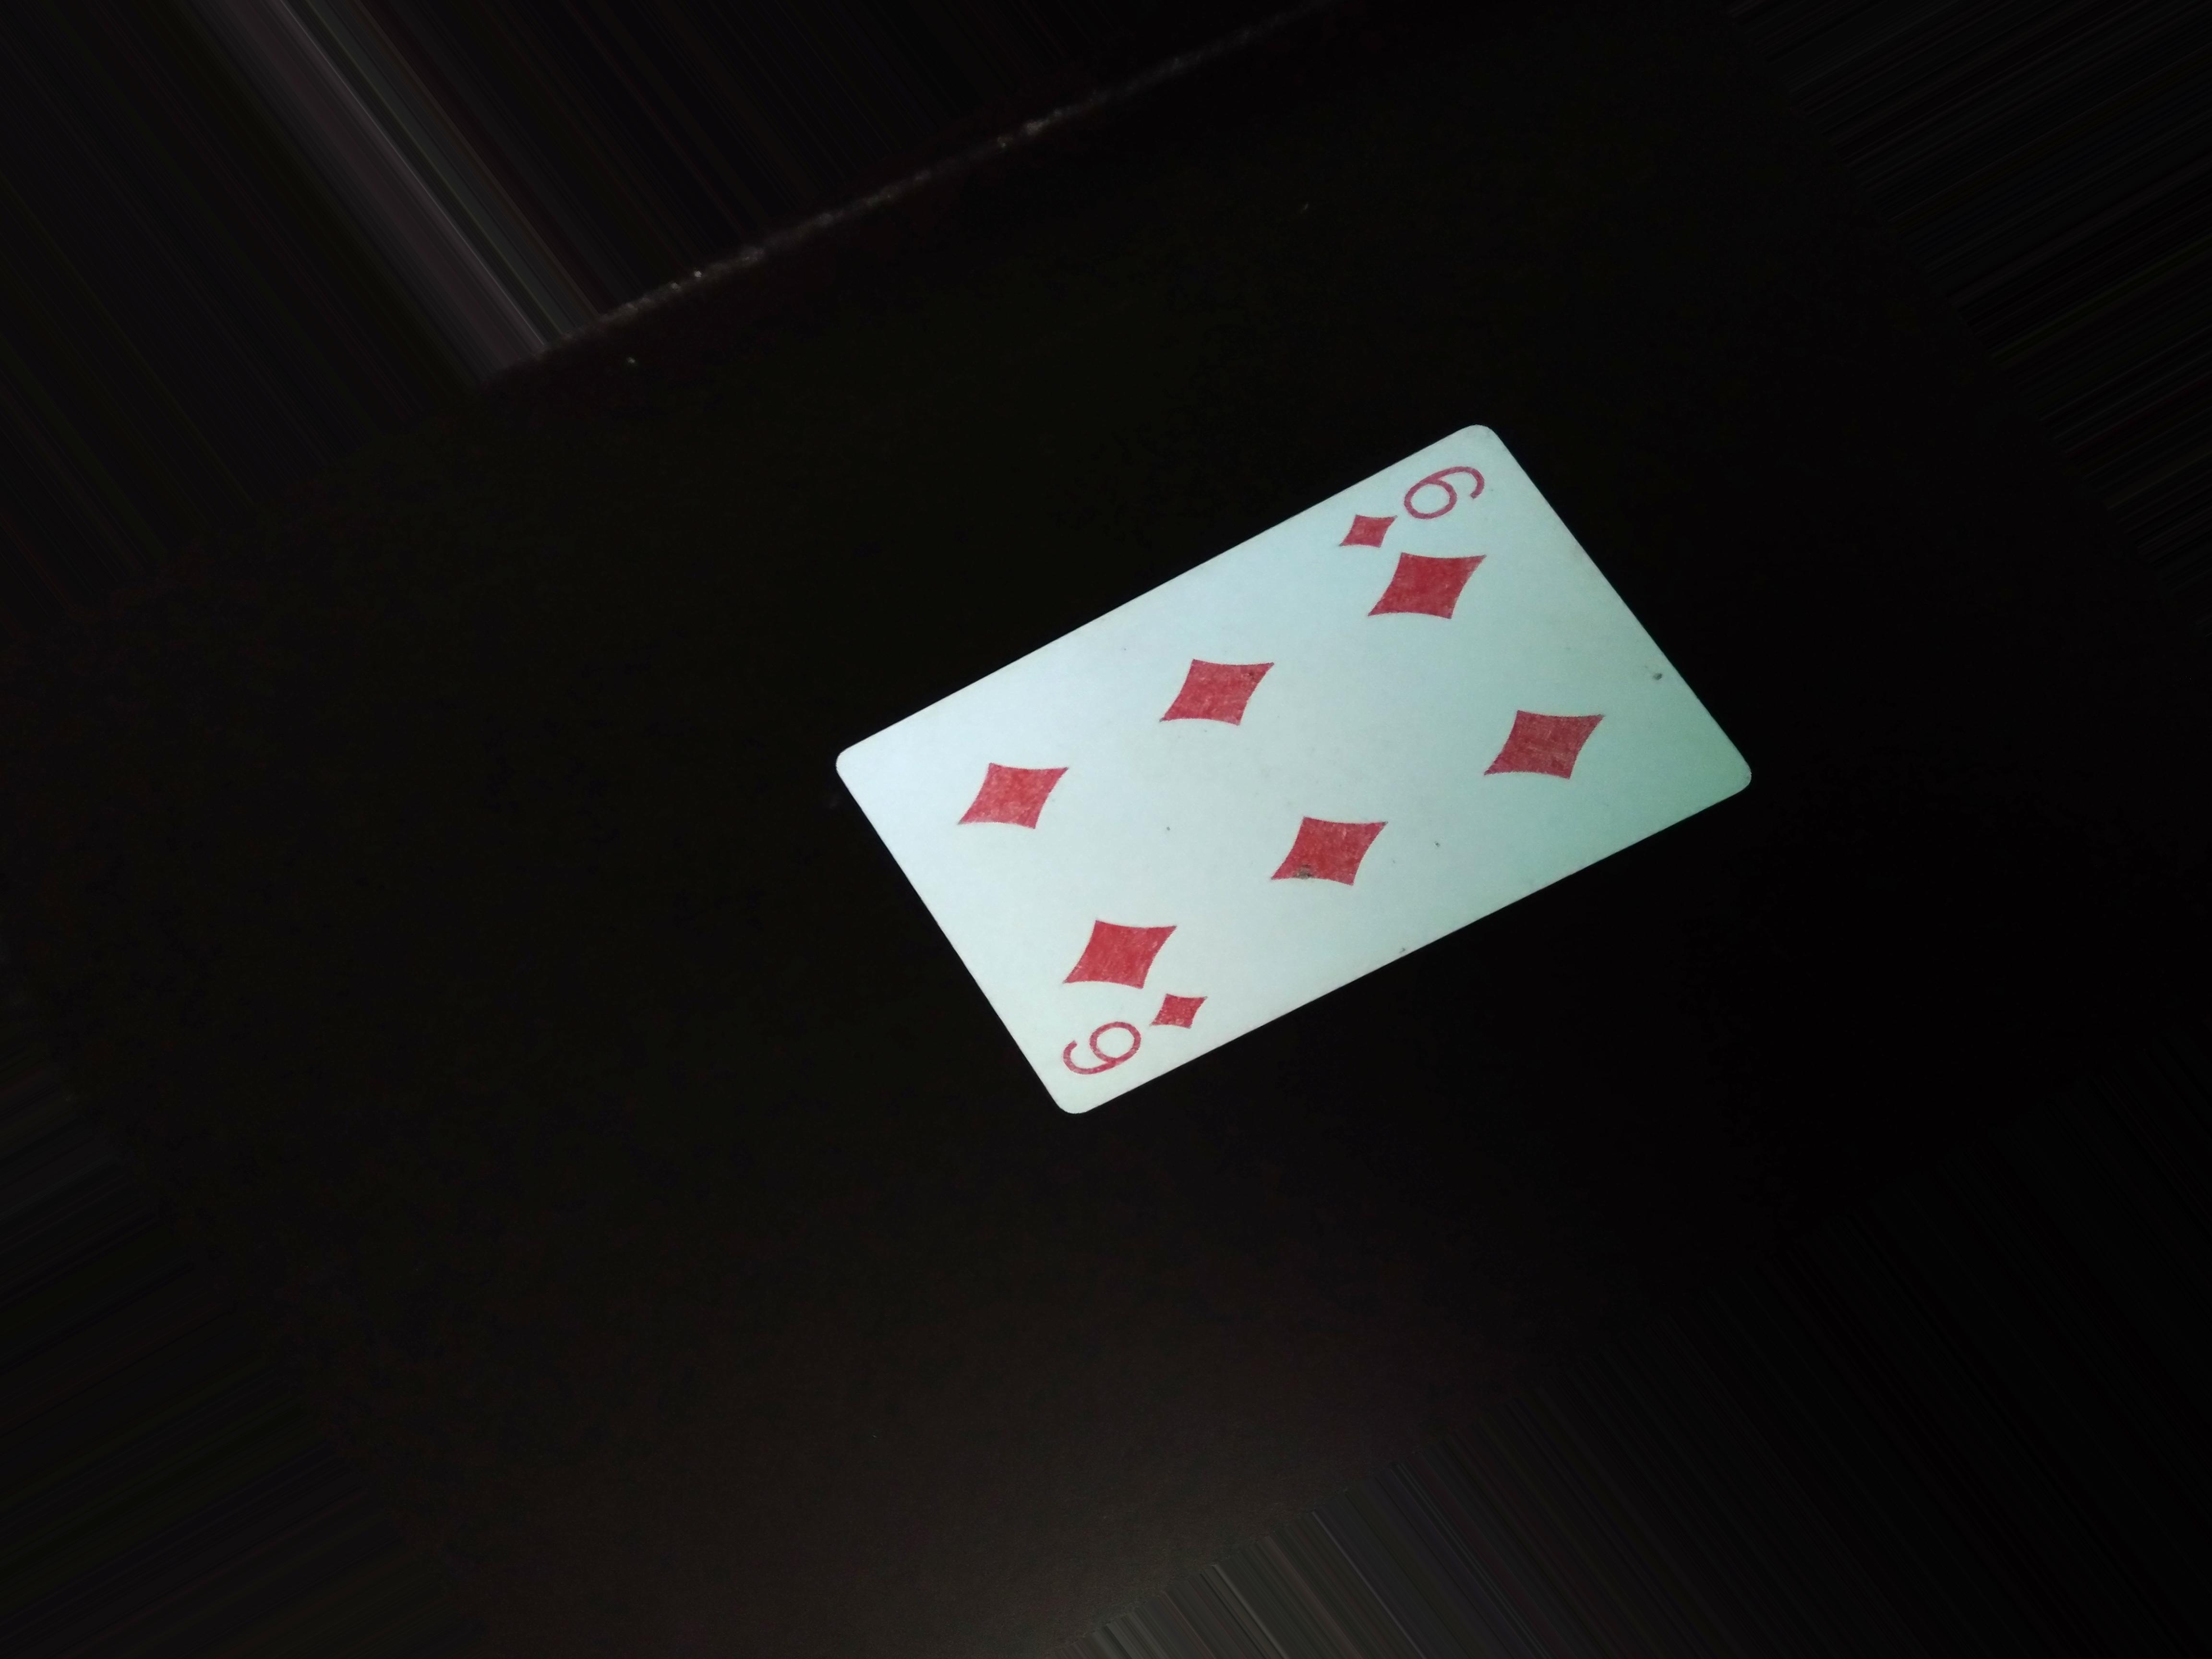6D: (1312, 444, 1512, 565)
